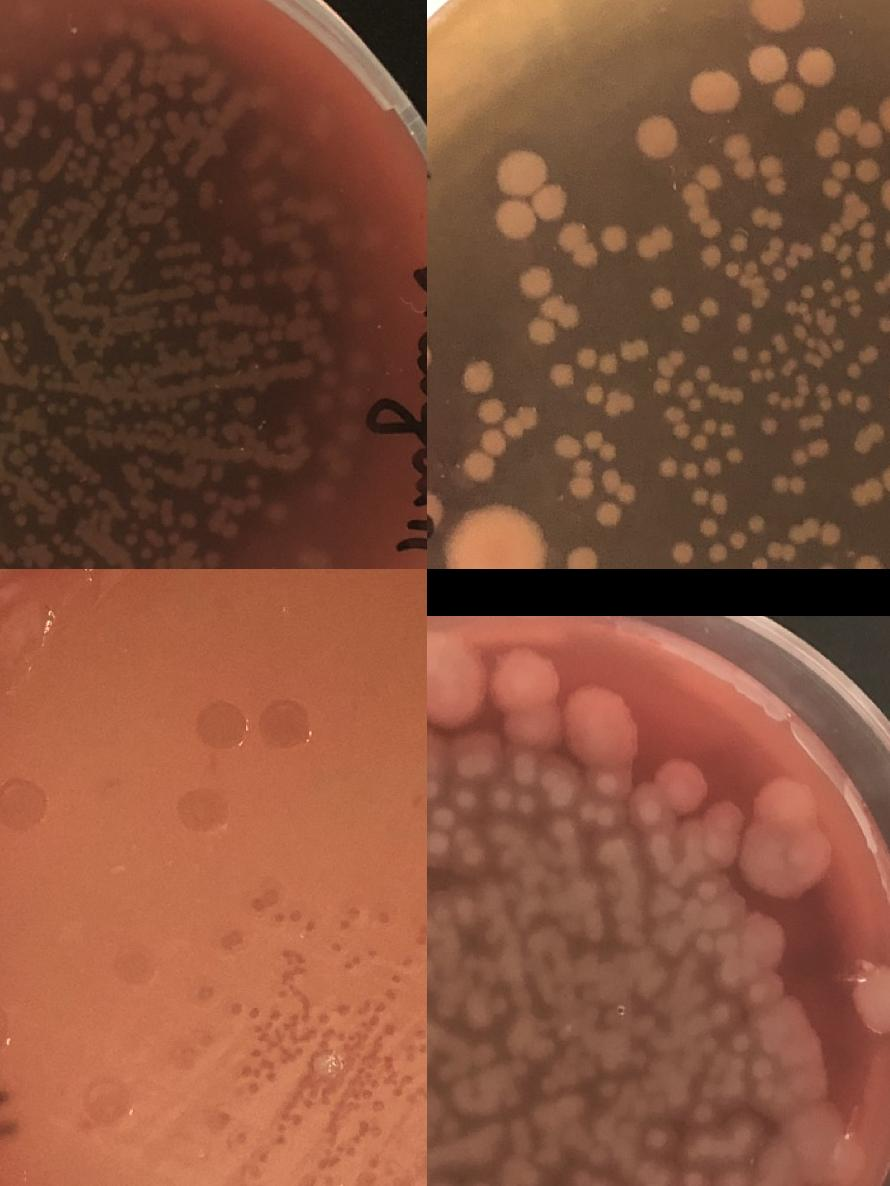pddamselae: (437, 501, 550, 569), (812, 94, 890, 158), (680, 164, 722, 239), (630, 108, 684, 166), (820, 157, 883, 200), (662, 404, 708, 452), (746, 0, 806, 35), (592, 483, 634, 532), (744, 42, 790, 84), (793, 45, 837, 87), (722, 132, 755, 181), (460, 448, 496, 484), (518, 264, 554, 300), (758, 153, 786, 199), (459, 359, 495, 394), (679, 456, 723, 484), (582, 428, 617, 463), (772, 82, 808, 116), (474, 395, 506, 427), (545, 360, 577, 392), (598, 222, 630, 254), (563, 544, 599, 569), (836, 389, 872, 414), (734, 553, 790, 569), (769, 473, 806, 496), (648, 285, 676, 313), (696, 245, 722, 272), (635, 233, 659, 261), (668, 540, 693, 566), (568, 476, 594, 500), (813, 381, 833, 412), (765, 390, 793, 412), (849, 552, 885, 569), (574, 346, 598, 370), (704, 541, 728, 565), (744, 366, 776, 384), (862, 421, 886, 445), (677, 313, 701, 336), (796, 414, 825, 433), (698, 297, 722, 319), (748, 204, 770, 228), (876, 176, 890, 213), (687, 484, 709, 506), (872, 270, 890, 296), (717, 419, 737, 441), (723, 444, 743, 466), (758, 416, 778, 438), (788, 446, 808, 468), (656, 456, 675, 478), (698, 516, 717, 538), (584, 382, 602, 404), (843, 359, 861, 380), (652, 377, 670, 397), (746, 515, 766, 533), (684, 396, 702, 414), (755, 348, 773, 366), (778, 544, 796, 562), (694, 364, 712, 381), (730, 346, 748, 363), (880, 464, 890, 494), (722, 260, 738, 278), (728, 532, 746, 548), (880, 226, 890, 252), (800, 283, 814, 299), (820, 278, 834, 294), (830, 336, 844, 352), (840, 264, 854, 280), (848, 302, 862, 318), (828, 294, 842, 309), (772, 268, 786, 282), (794, 301, 808, 315), (815, 563, 841, 569), (885, 380, 890, 406)
tmaritimum: (174, 787, 224, 835), (199, 703, 248, 751), (259, 700, 308, 748), (82, 1079, 130, 1127), (0, 778, 45, 826), (114, 946, 158, 986), (252, 1048, 276, 1084), (0, 1007, 10, 1055), (389, 1172, 416, 1186), (344, 954, 362, 972), (357, 1174, 384, 1186), (331, 1144, 344, 1168), (416, 1150, 427, 1178), (242, 1065, 261, 1079), (416, 922, 427, 945), (358, 1120, 370, 1138), (276, 1122, 284, 1148)
valgino: (753, 782, 831, 880), (625, 759, 706, 832), (566, 686, 636, 766), (427, 642, 479, 722), (492, 650, 556, 713), (847, 960, 890, 1040), (461, 845, 482, 867), (433, 808, 453, 830), (516, 794, 536, 816), (552, 819, 572, 841), (578, 798, 598, 820), (647, 1128, 667, 1150), (693, 1102, 713, 1124), (693, 934, 713, 956), (718, 934, 738, 956), (746, 984, 766, 1005), (729, 1032, 748, 1054), (752, 1057, 770, 1079), (491, 788, 510, 808)
vangil: (102, 50, 134, 90), (203, 491, 244, 514), (14, 512, 28, 526), (82, 495, 96, 509), (91, 87, 105, 101), (138, 546, 152, 560), (140, 476, 154, 490), (226, 522, 240, 536), (89, 472, 102, 486), (84, 60, 98, 72), (166, 532, 180, 544), (180, 514, 194, 526), (125, 532, 138, 544), (187, 561, 201, 569)
